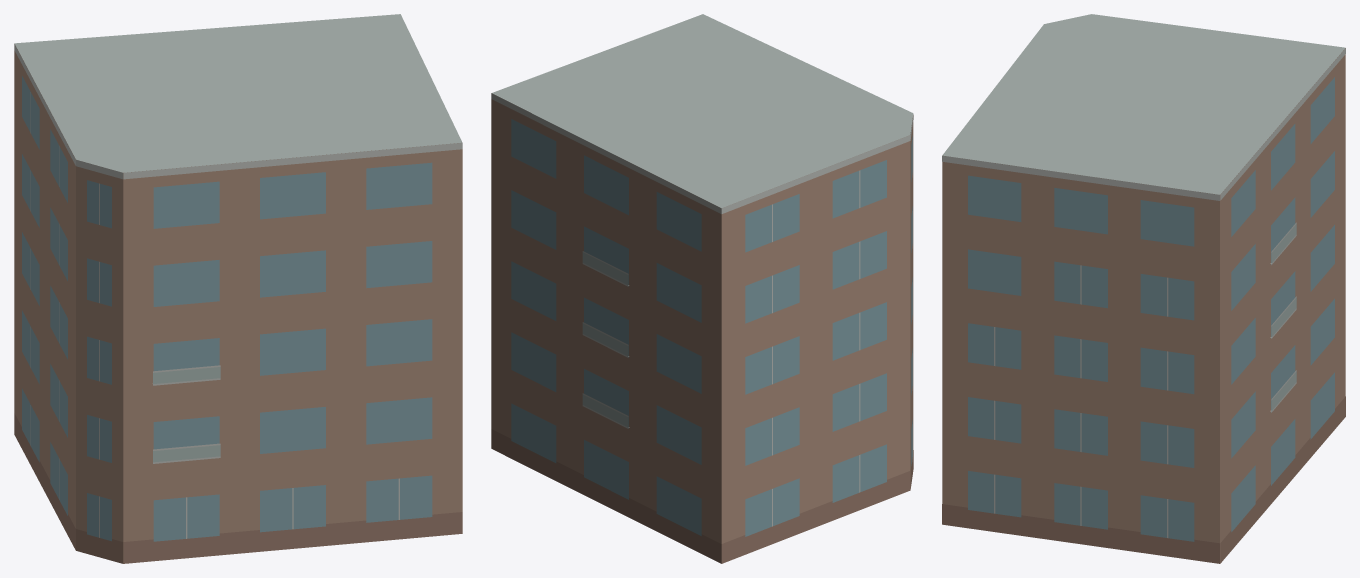
The model's file is survey-upis-32710353.glb.
3 views of the same model, side by side, from view 1: azimuth 30°, elevation 25°; view 2: azimuth 150°, elevation 25°; view 3: azimuth 270°, elevation 25° (orthographic). The views are drawn at different scales.
Visible parts, largest first — view 1: survey-upis-32710353.tmp; view 2: survey-upis-32710353.tmp; view 3: survey-upis-32710353.tmp.
Boxes of the visible parts, left/top/right/bottom form: survey-upis-32710353.tmp: left=14, top=14, right=462, bottom=563; survey-upis-32710353.tmp: left=491, top=14, right=913, bottom=563; survey-upis-32710353.tmp: left=942, top=14, right=1345, bottom=563.
Size of the model in its own units: 15.25 by 14.5 by 14.38.
